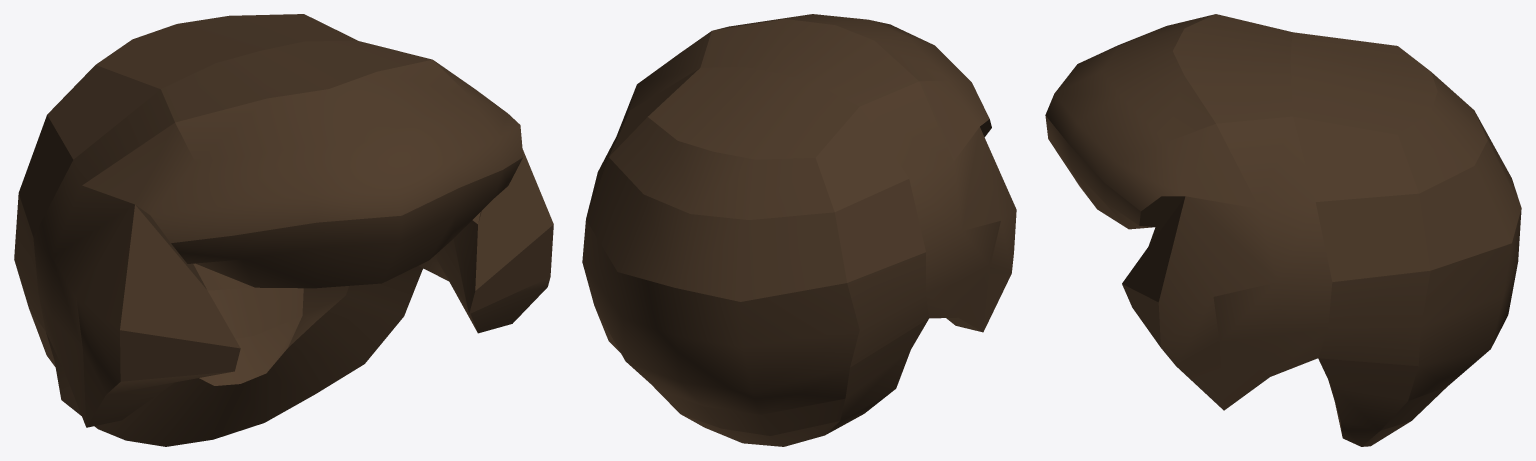
File: Cabello_Entradas.fbx
3 renders of one model, left to right at view 1: azimuth 30°, elevation 25°; view 2: azimuth 150°, elevation 25°; view 3: azimuth 270°, elevation 25°, orthographic. The views are drawn at different scales.
Visible parts, largest first — view 1: Cabello_Entradas; view 2: Cabello_Entradas; view 3: Cabello_Entradas.
Part boxes in pixels (x1=…): Cabello_Entradas: x1=14, y1=14, x2=553, y2=446; Cabello_Entradas: x1=582, y1=14, x2=1016, y2=446; Cabello_Entradas: x1=1045, y1=14, x2=1521, y2=446.
Bounding box in the file's own units: 3.08 × 2.79 × 3.18.
